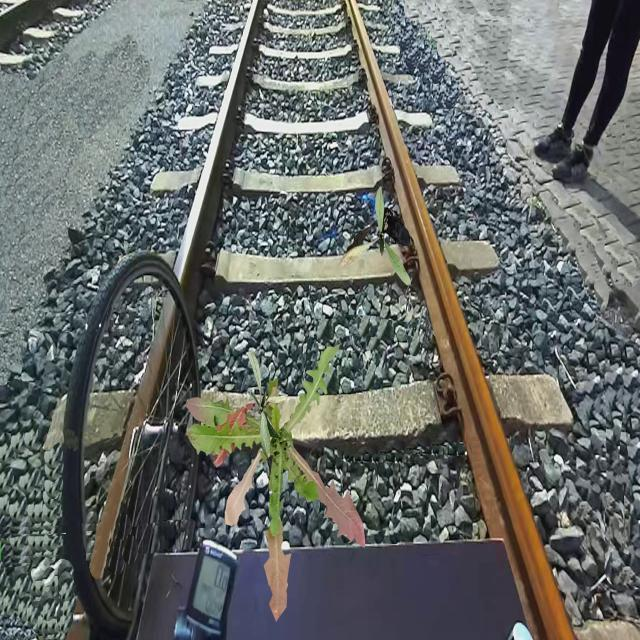Plant: (186, 345, 366, 623), (339, 186, 411, 286), (247, 349, 287, 459)
